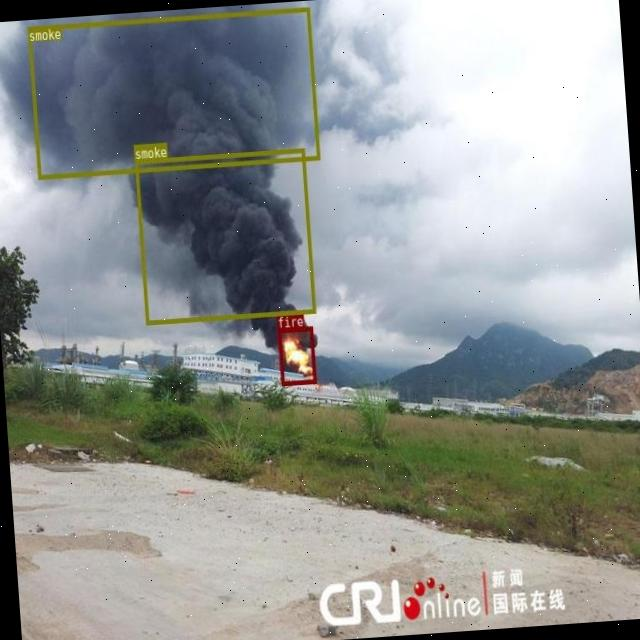fire: (276, 326, 316, 385)
smoke: (27, 6, 320, 178), (134, 148, 316, 324)
